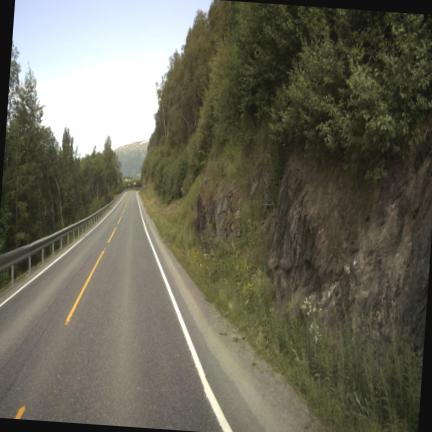Road: (0, 192, 266, 431)
